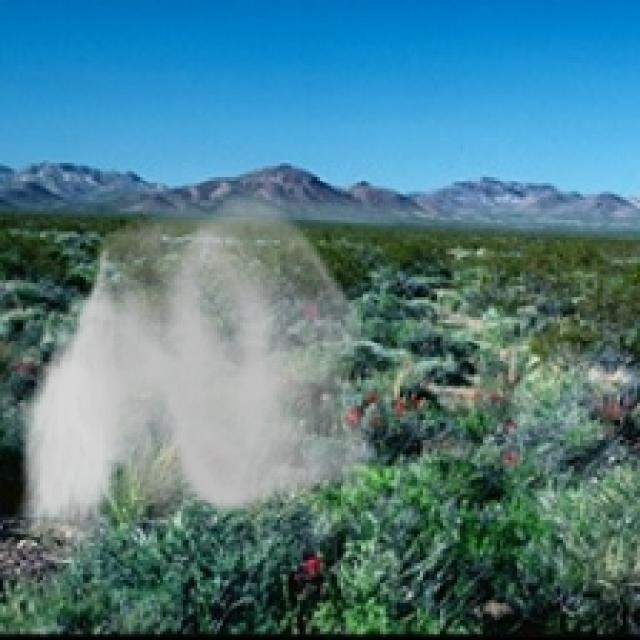Smoke: (14, 188, 377, 554)
